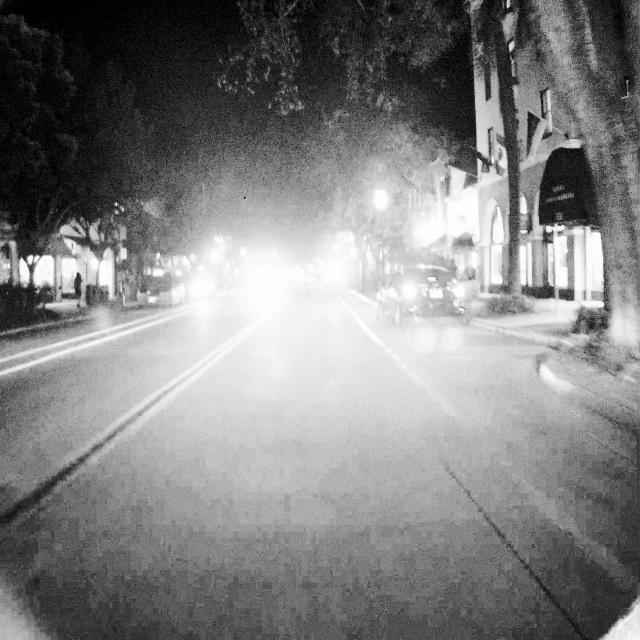Tree: (525, 0, 639, 360)
